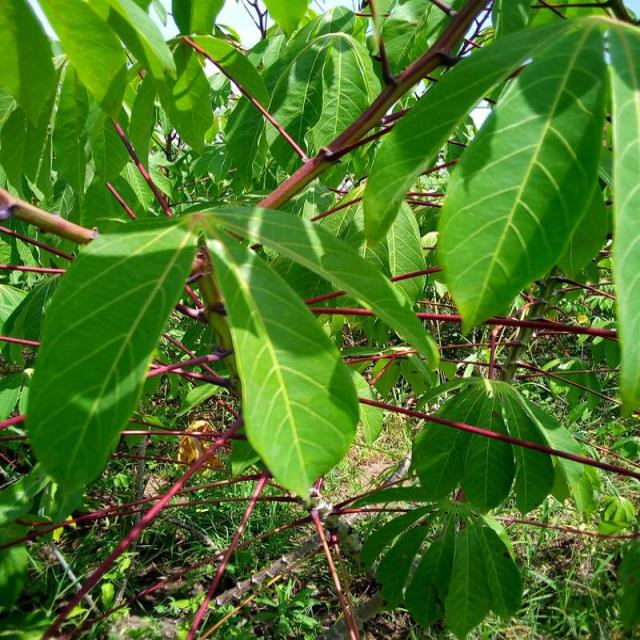cassava leaf: (434, 15, 610, 335), (24, 212, 198, 521), (202, 228, 361, 502), (409, 376, 599, 518)
